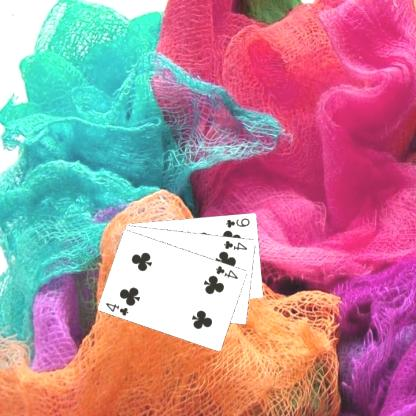4C: (103, 300, 130, 317), (213, 263, 239, 280), (221, 238, 249, 251)
9C: (223, 215, 251, 229)
